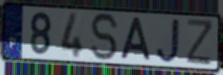4: (60, 11, 86, 60)
8: (29, 10, 52, 57)
A: (118, 16, 153, 62)
J: (154, 17, 182, 65)
S: (89, 12, 121, 63)
Z: (185, 18, 215, 68)
